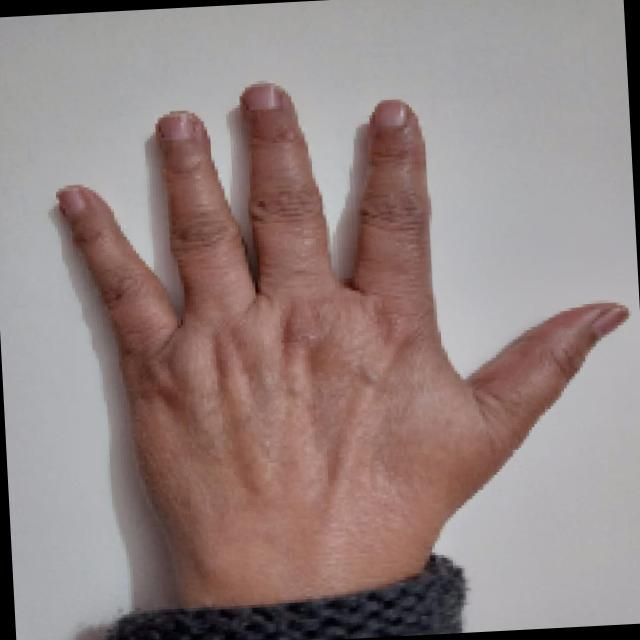Nail: (592, 303, 628, 338), (157, 110, 195, 140), (242, 83, 281, 110), (371, 99, 408, 127), (57, 185, 86, 217)
